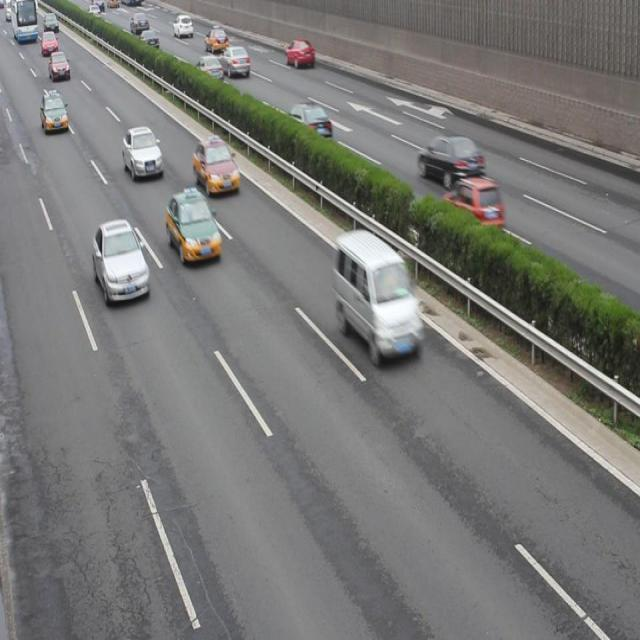car: (91, 221, 150, 305), (166, 190, 222, 266), (417, 133, 484, 187), (441, 178, 503, 236), (193, 135, 240, 196), (122, 125, 164, 183), (284, 102, 332, 143), (41, 90, 69, 134), (219, 45, 250, 79), (286, 39, 314, 70), (195, 53, 223, 83), (49, 52, 72, 82), (204, 25, 228, 53), (138, 30, 159, 52), (173, 15, 193, 38), (42, 33, 58, 56)
truck: (334, 228, 421, 366)
